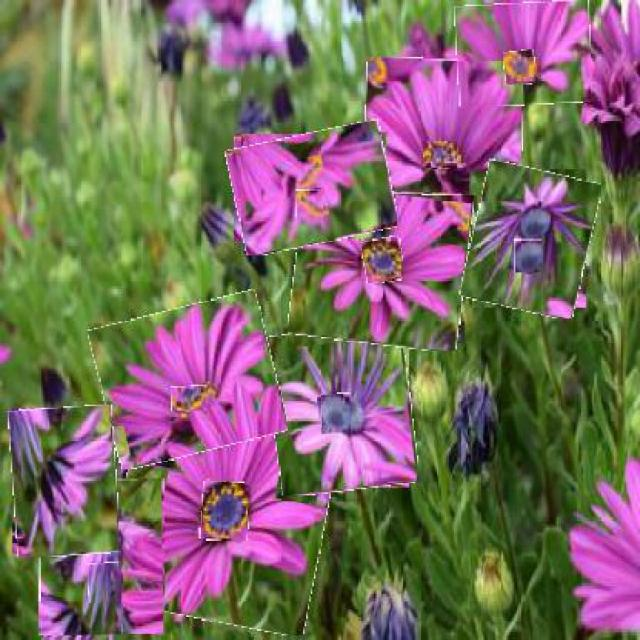Flower: (113, 389, 336, 629), (292, 165, 471, 348), (95, 298, 282, 462), (269, 324, 416, 493), (365, 58, 524, 196), (229, 126, 394, 251), (39, 479, 166, 638), (466, 164, 595, 315), (10, 406, 118, 557), (456, 2, 592, 106), (200, 481, 251, 541), (362, 237, 403, 283), (89, 563, 120, 605), (320, 393, 352, 433), (504, 50, 536, 85), (425, 141, 459, 172), (514, 238, 543, 274), (172, 386, 210, 412), (296, 190, 325, 219)
